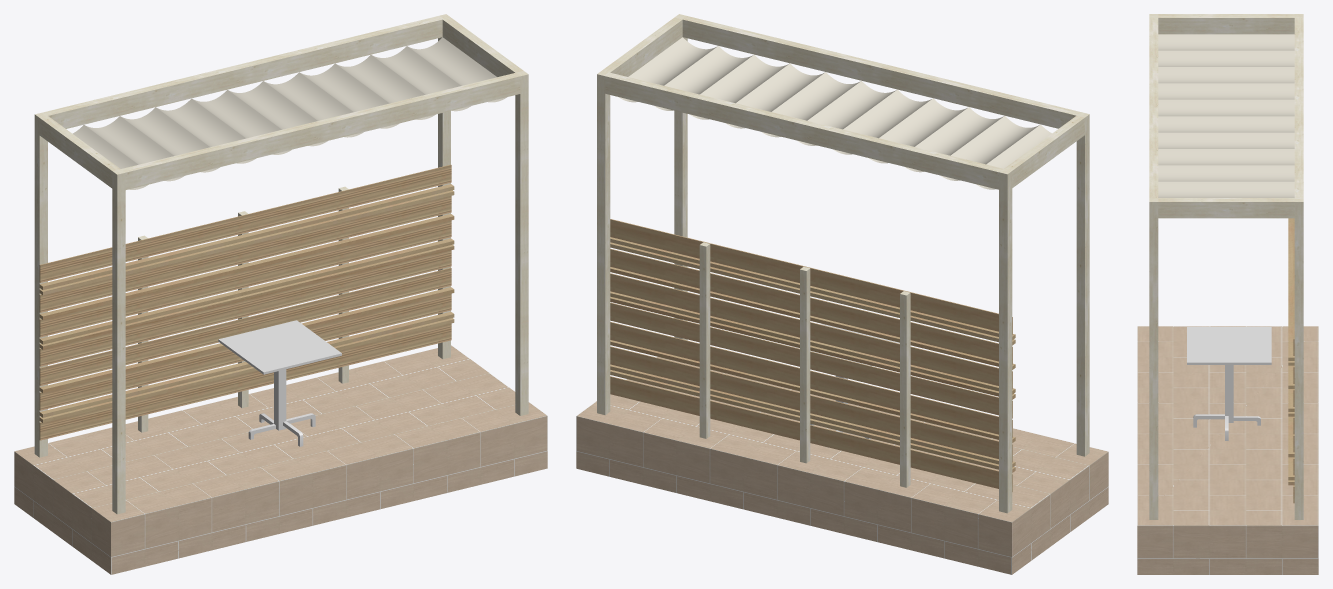
The model's file is fp25-g_w39-d15_whitepine.fbx.
3 renders of one model, left to right at view 1: azimuth 30°, elevation 25°; view 2: azimuth 150°, elevation 25°; view 3: azimuth 270°, elevation 25°, orthographic. The views are drawn at different scales.
Visible parts, largest first — view 1: fp25-g_w39-d15_whitepine_ファニチャーなし.001; view 2: fp25-g_w39-d15_whitepine_ファニチャーなし.001; view 3: fp25-g_w39-d15_whitepine_ファニチャーなし.001.
Boxes of the visible parts, <box> form: fp25-g_w39-d15_whitepine_ファニチャーなし.001: <box>14,14,547,574</box>; fp25-g_w39-d15_whitepine_ファニチャーなし.001: <box>576,14,1108,574</box>; fp25-g_w39-d15_whitepine_ファニチャーなし.001: <box>1137,14,1318,574</box>.
Size of the model in its own units: 390 by 335 by 150.
Materials: 7 (5 with a texture image).
